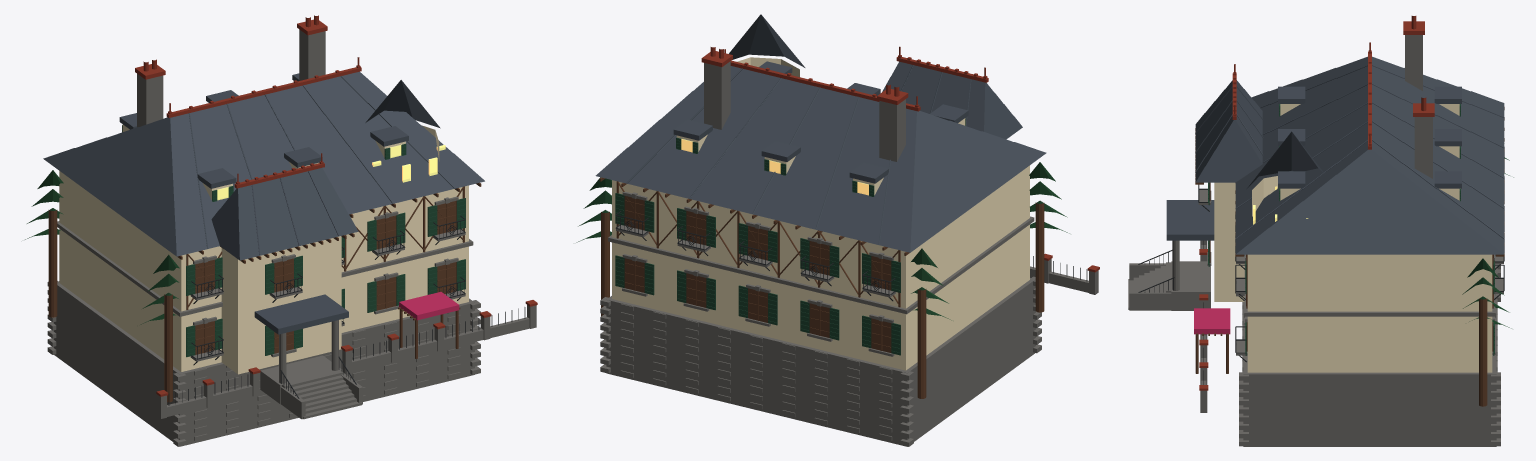
Rendered from fv_bt_07_bao_tang_lam_dong_archaeology_wing.glb.
3 renders of one model, left to right at view 1: azimuth 30°, elevation 25°; view 2: azimuth 150°, elevation 25°; view 3: azimuth 270°, elevation 25°, orthographic. The views are drawn at different scales.
Parts seen in each view (by area): view 1: marseille_corrugated_roof_tiles, granite_foundation_and_stairs, stucco_facade_and_dormers, colombage_timber_and_eaves, pine_green_louvered_shutters, ridge_cresting_and_chimneys, wrought_iron_balconies_3d, pine_trees_and_garden_hedges, bougainvillea_pergola_clusters, warm_night_windows_ffb86c; view 2: marseille_corrugated_roof_tiles, granite_foundation_and_stairs, stucco_facade_and_dormers, colombage_timber_and_eaves, pine_green_louvered_shutters, ridge_cresting_and_chimneys, pine_trees_and_garden_hedges, wrought_iron_balconies_3d; view 3: marseille_corrugated_roof_tiles, stucco_facade_and_dormers, granite_foundation_and_stairs, colombage_timber_and_eaves, ridge_cresting_and_chimneys, bougainvillea_pergola_clusters, wrought_iron_balconies_3d, pine_trees_and_garden_hedges, pine_green_louvered_shutters.
Boxes of the visible parts, <box> form: marseille_corrugated_roof_tiles: <box>43,71,484,334</box>; granite_foundation_and_stairs: <box>47,29,536,446</box>; stucco_facade_and_dormers: <box>59,124,468,374</box>; colombage_timber_and_eaves: <box>48,182,481,402</box>; pine_green_louvered_shutters: <box>122,125,465,357</box>; ridge_cresting_and_chimneys: <box>135,15,537,396</box>; wrought_iron_balconies_3d: <box>168,215,525,405</box>; pine_trees_and_garden_hedges: <box>25,170,179,324</box>; bougainvillea_pergola_clusters: <box>399,292,459,320</box>; warm_night_windows_ffb86c: <box>217,144,445,200</box>; marseille_corrugated_roof_tiles: <box>595,14,1046,252</box>; granite_foundation_and_stairs: <box>600,61,1098,446</box>; stucco_facade_and_dormers: <box>612,57,1029,370</box>; colombage_timber_and_eaves: <box>599,177,1044,398</box>; pine_green_louvered_shutters: <box>615,118,965,355</box>; ridge_cresting_and_chimneys: <box>701,46,1099,272</box>; pine_trees_and_garden_hedges: <box>576,162,1069,320</box>; wrought_iron_balconies_3d: <box>615,211,1087,301</box>; marseille_corrugated_roof_tiles: <box>1166,56,1504,254</box>; stucco_facade_and_dormers: <box>1214,104,1492,372</box>; granite_foundation_and_stairs: <box>1128,35,1503,446</box>; colombage_timber_and_eaves: <box>1195,107,1504,406</box>; ridge_cresting_and_chimneys: <box>1199,16,1434,390</box>; bougainvillea_pergola_clusters: <box>1194,308,1230,334</box>; wrought_iron_balconies_3d: <box>1138,147,1504,384</box>; pine_trees_and_garden_hedges: <box>1462,157,1513,328</box>; pine_green_louvered_shutters: <box>1208,104,1494,355</box>.
Size of the model in its own units: 25.94 by 20.43 by 23.33.
